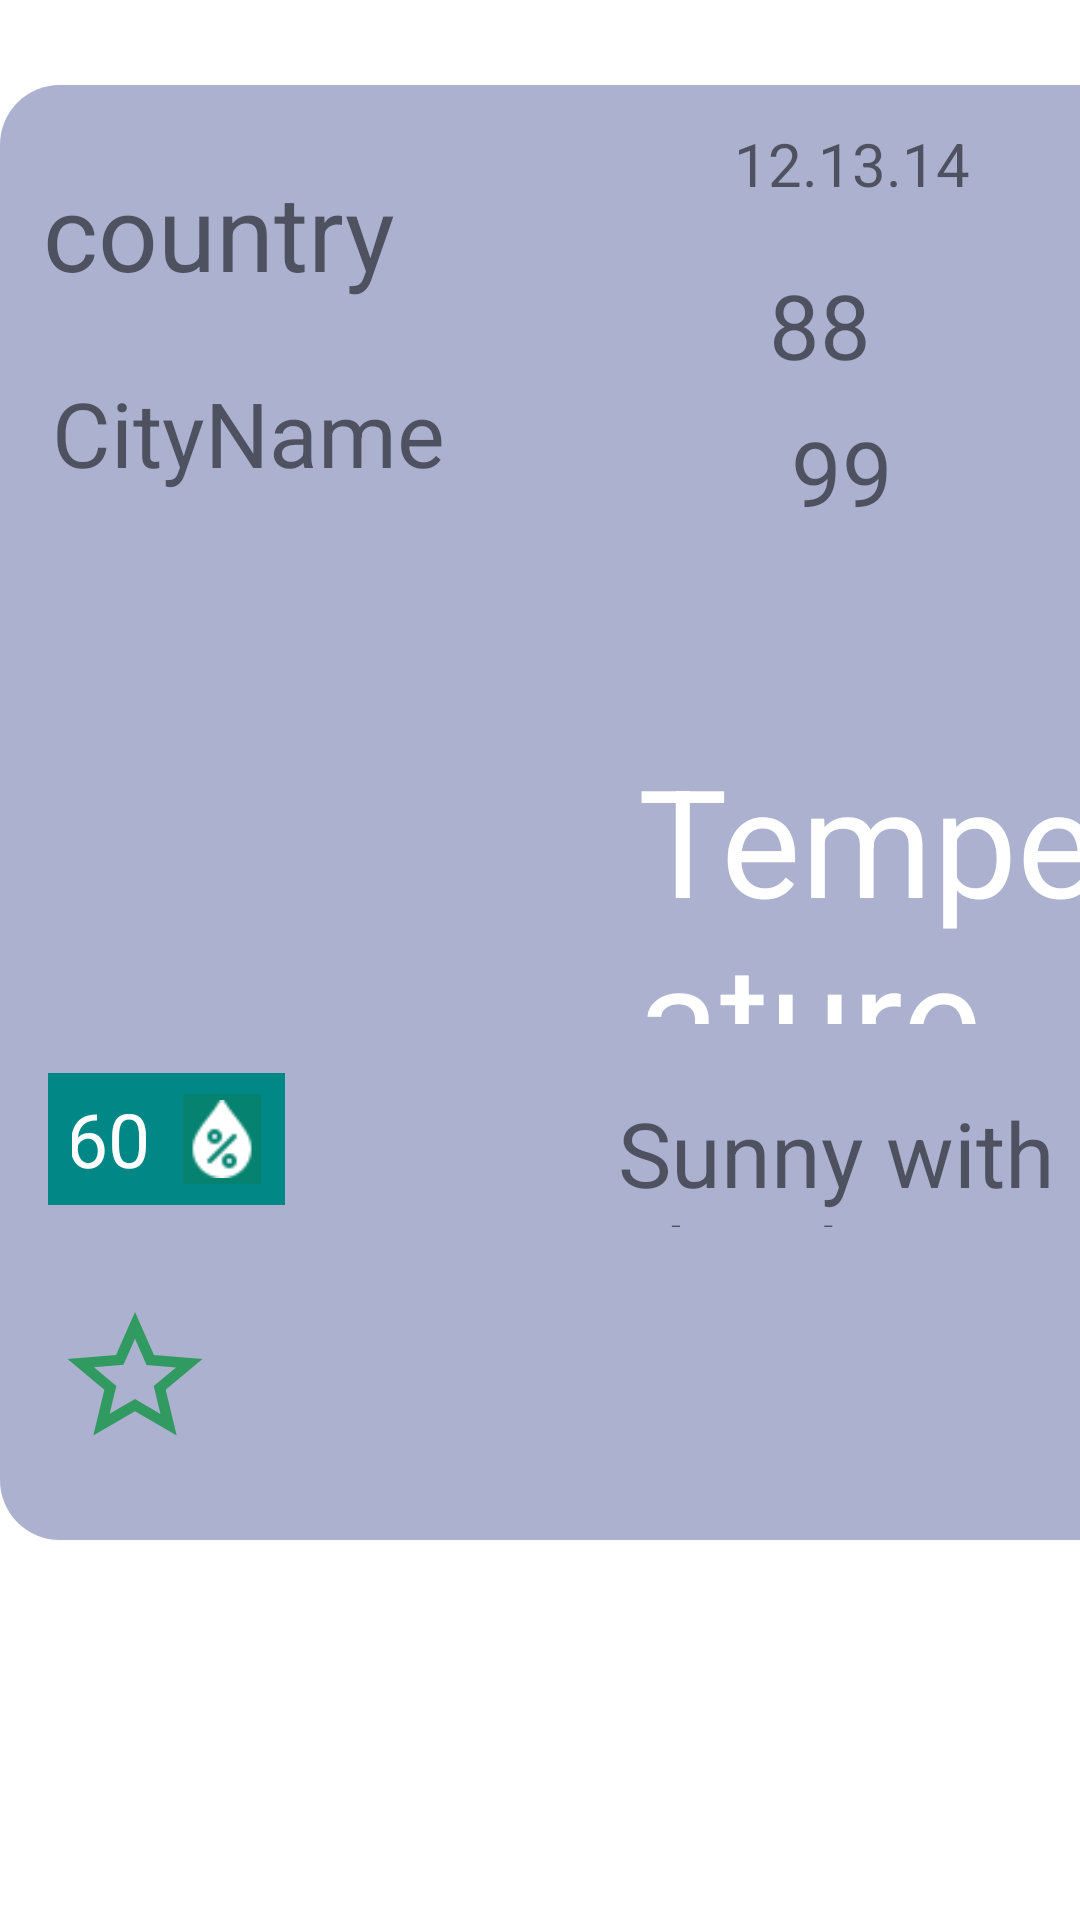

Icons on this 1080px x 1920px Android screen, each with its box as (x1, y1, x2, y2):
favorite: (68, 1312, 202, 1435)
humidity: (192, 1100, 252, 1178)
